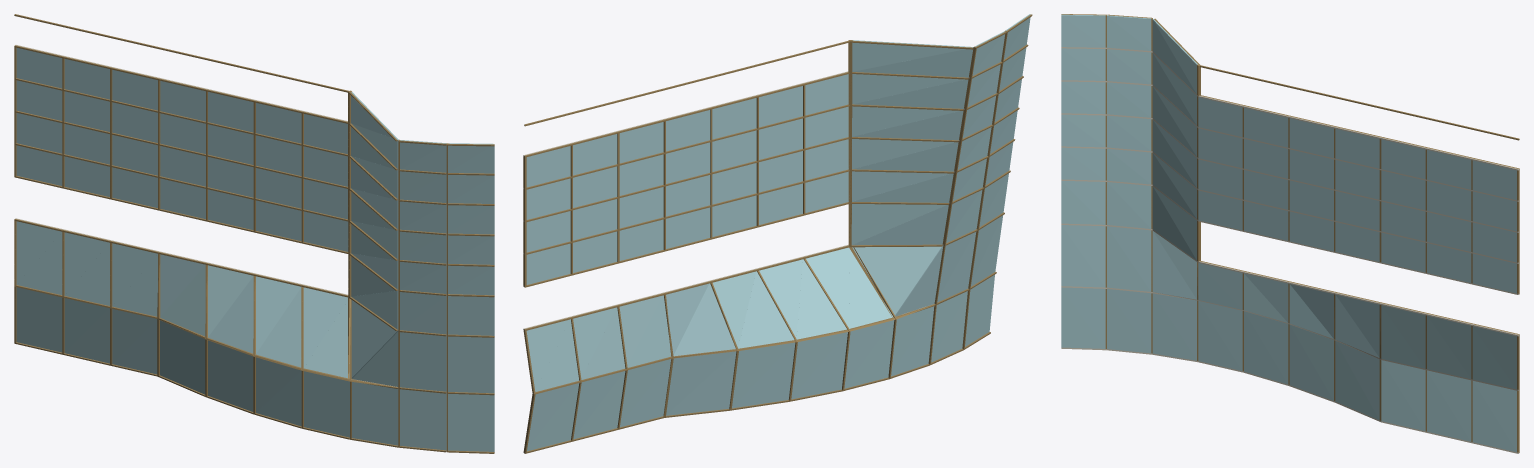
Rendered from G7_Completion_R005_Body_1_08.glb.
3 renders of one model, left to right at view 1: azimuth 90°, elevation 25°; view 2: azimuth 150°, elevation 25°; view 3: azimuth 270°, elevation 25°, orthographic. The views are drawn at different scales.
Parts seen in each view (by area): view 1: Body_1_08_G7C3_glass_solid_skin, Body_1_08_G7C3_metal_solid_frame, Body_1_08_G7C3_shell_solid_skin; view 2: Body_1_08_G7C3_glass_solid_skin, Body_1_08_G7C3_metal_solid_frame, Body_1_08_G7C3_metal_solid_skin, Body_1_08_G7C3_shell_solid_skin; view 3: Body_1_08_G7C3_glass_solid_skin, Body_1_08_G7C3_shell_solid_skin, Body_1_08_G7C3_metal_solid_skin, Body_1_08_G7C3_metal_solid_frame.
Boxes of the visible parts, x1,y1,x2,y2 form: Body_1_08_G7C3_glass_solid_skin: (16,48,494,451); Body_1_08_G7C3_metal_solid_frame: (14,14,494,453); Body_1_08_G7C3_shell_solid_skin: (15,45,446,451); Body_1_08_G7C3_glass_solid_skin: (526,14,1030,451); Body_1_08_G7C3_metal_solid_frame: (524,14,1032,453); Body_1_08_G7C3_metal_solid_skin: (523,30,1005,451); Body_1_08_G7C3_shell_solid_skin: (523,71,969,452); Body_1_08_G7C3_glass_solid_skin: (1061,14,1516,452); Body_1_08_G7C3_shell_solid_skin: (1061,47,1518,453); Body_1_08_G7C3_metal_solid_skin: (1105,15,1518,452); Body_1_08_G7C3_metal_solid_frame: (1061,14,1519,452).
Bounding box in the file's own units: 39.07 × 45.5 × 60.19.
3 materials, 2 textured.
